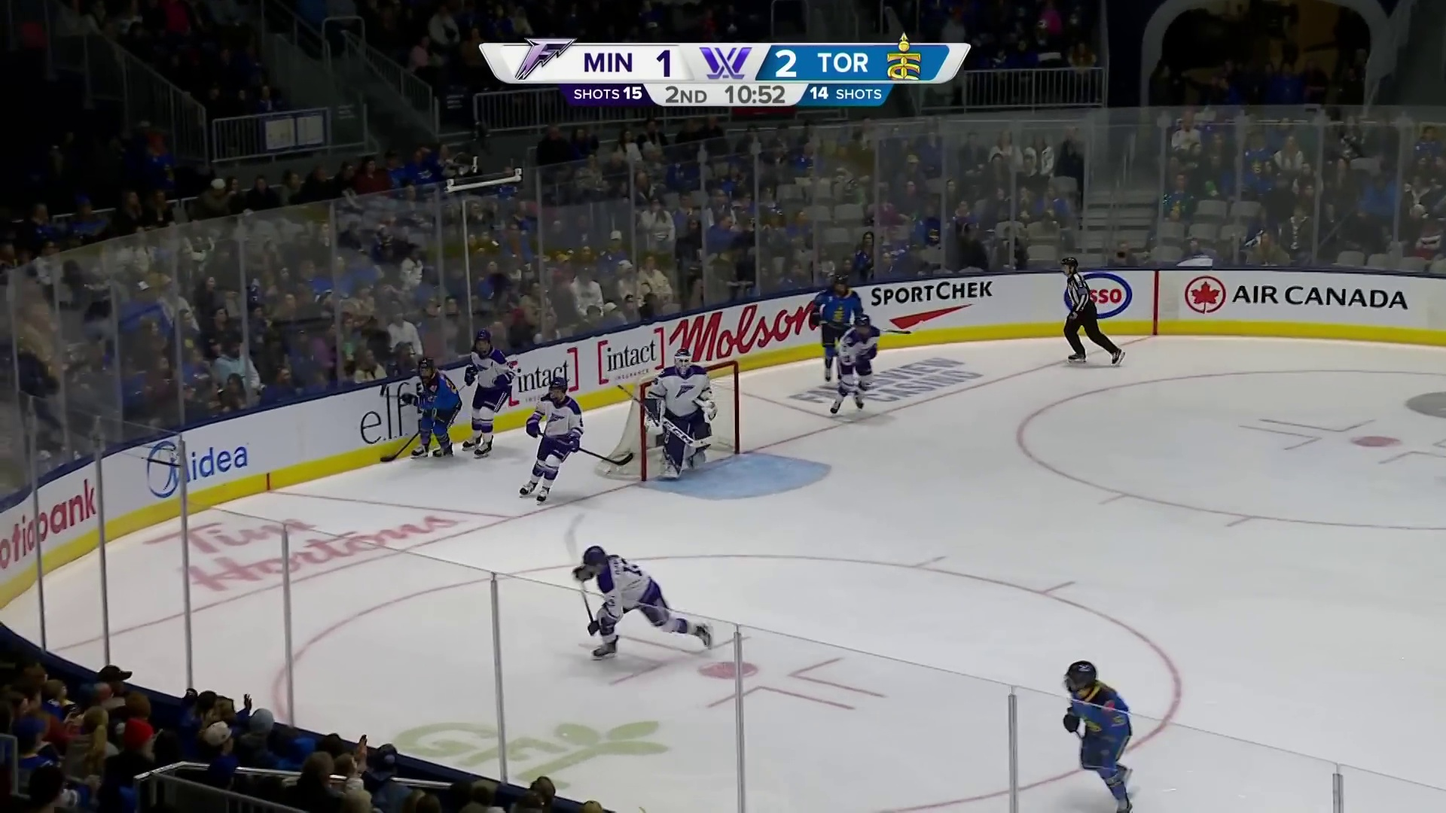goaltender: (644, 349, 714, 478)
player: (571, 544, 715, 659), (1060, 659, 1135, 812), (516, 377, 583, 507), (462, 330, 515, 461), (402, 355, 463, 461), (831, 314, 877, 413)
referee: (1059, 258, 1126, 364)
